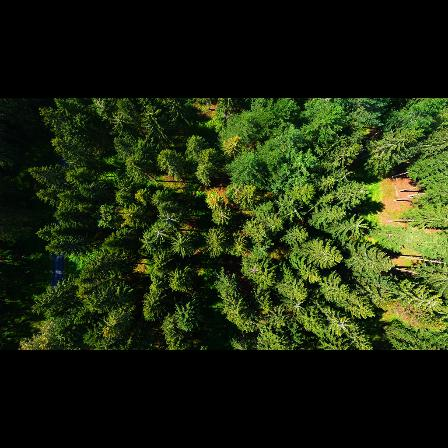Sick: (212, 205, 234, 227), (287, 294, 308, 314), (152, 224, 169, 243)
